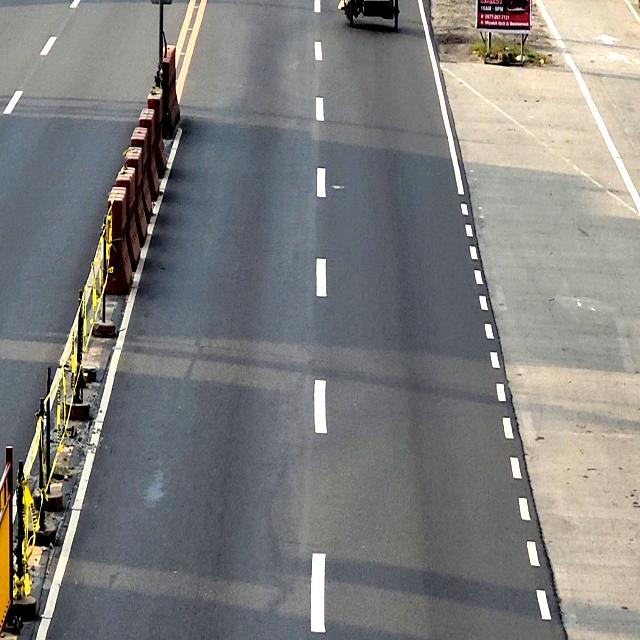Tricycle: (343, 0, 400, 32)
